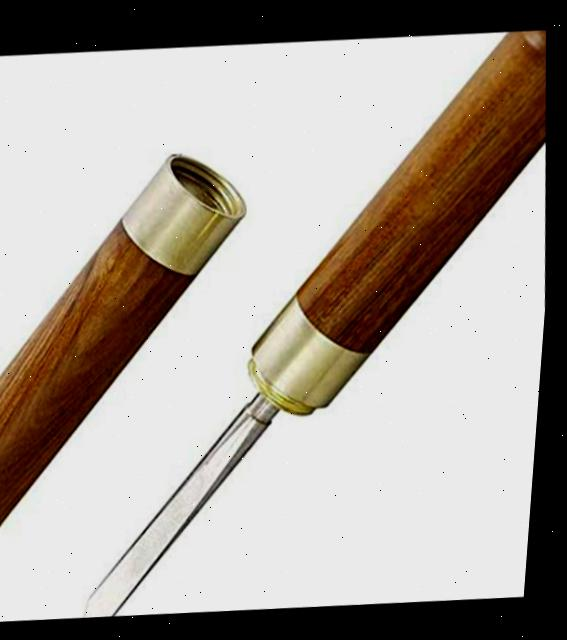ice pick: (46, 18, 566, 625)
